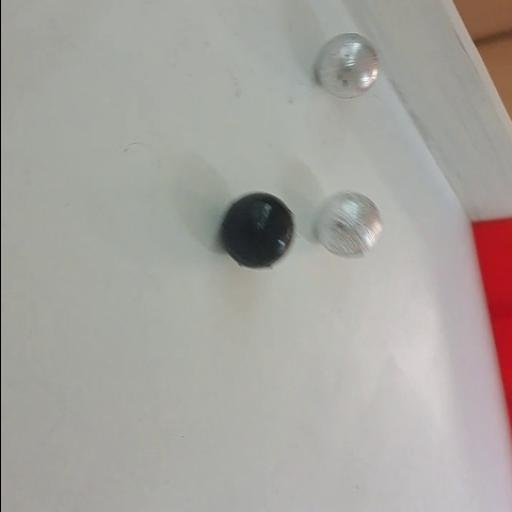alive: (314, 190, 382, 260), (314, 31, 380, 101)
dead: (220, 190, 296, 272)
